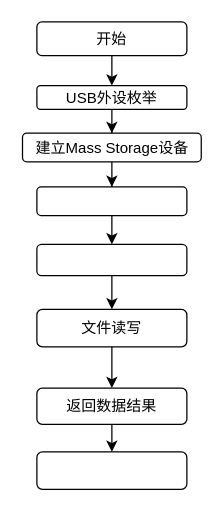
Image size: 223x511. Some labels were removed from this diagram. The centre of each missing label's shape, as x and y in pixels:
SD卡映射: point (111, 201)
上位机发送访问请求: point (111, 259)
结束: point (111, 470)
